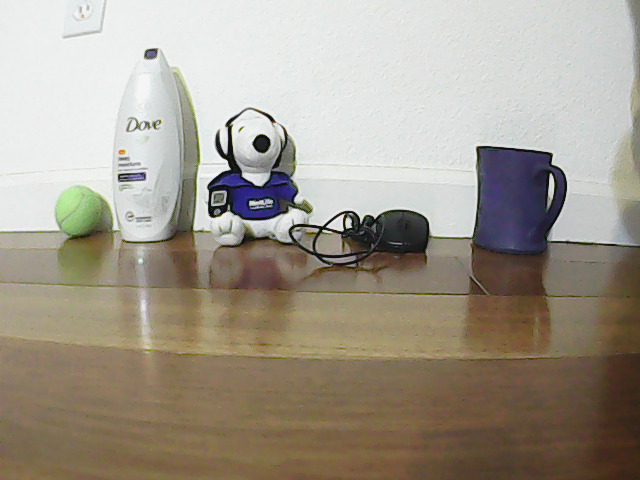ball: (51, 171, 107, 238)
mouse: (381, 198, 434, 261)
mug: (461, 130, 573, 262)
snoopy: (213, 95, 308, 240)
soap: (114, 46, 184, 241)
